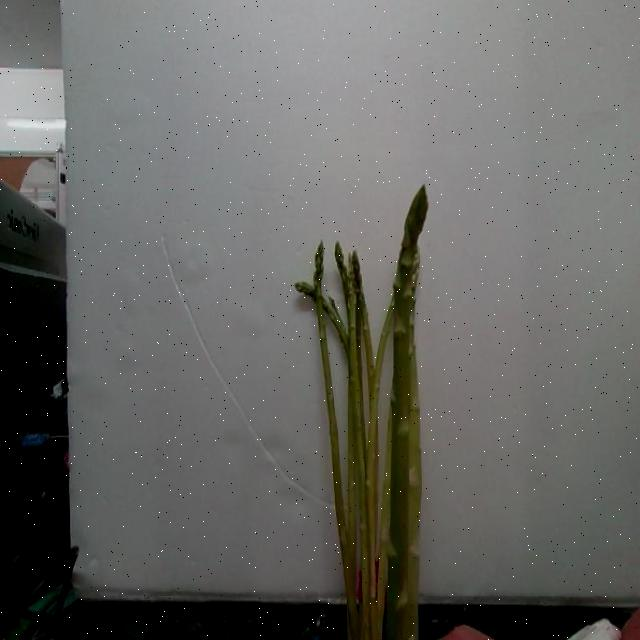aspargus: (389, 187, 427, 640)
